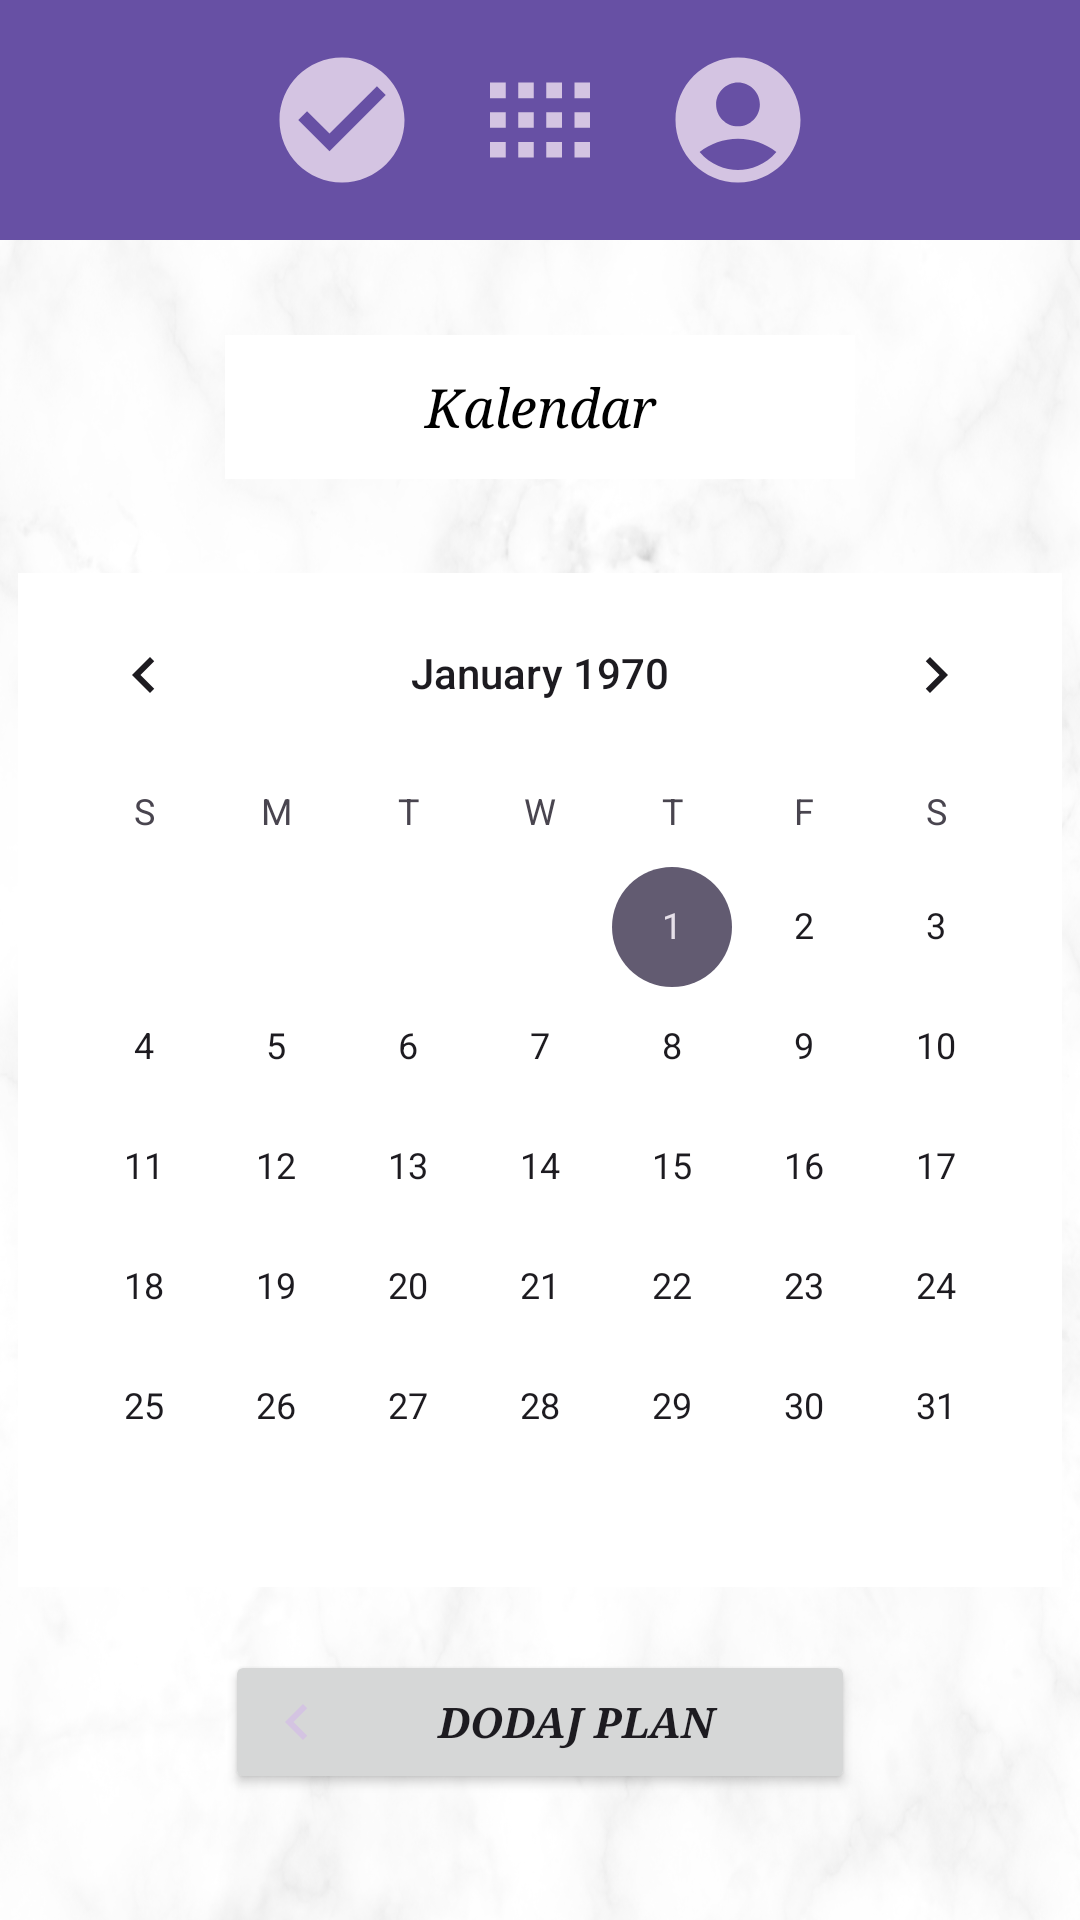

Icons on this 1080 × 1920 Android screen, each with the point to tap as point (x, y):
Calendar: point (540, 120)
Profile: point (738, 120)
